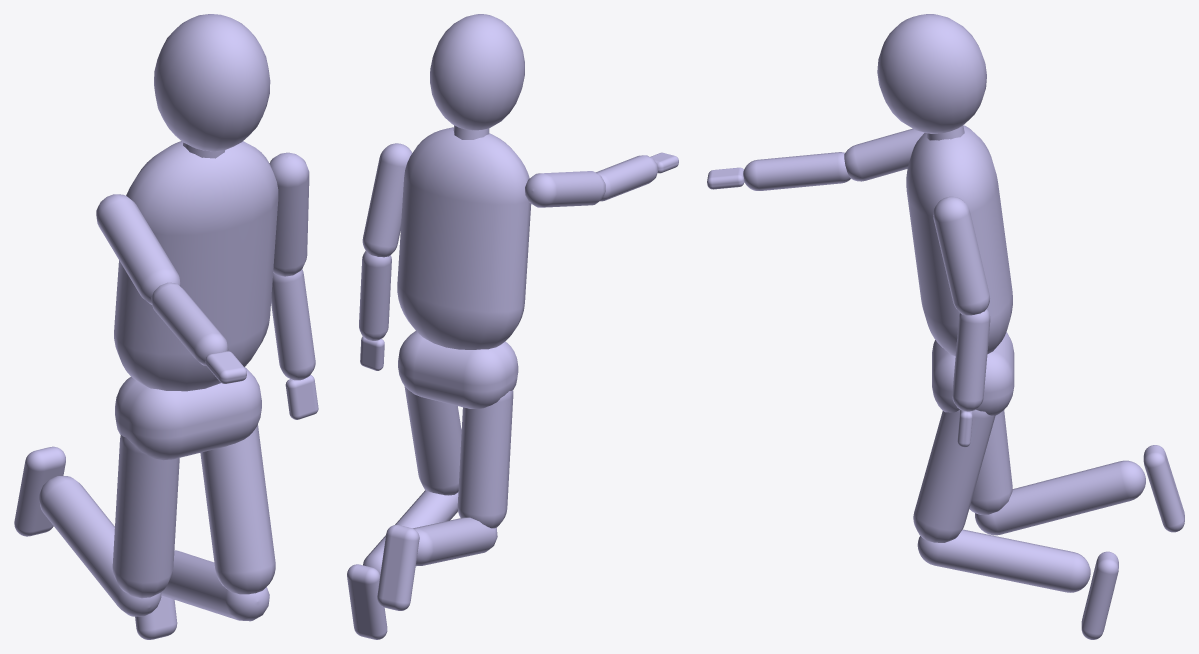
The model's file is mannequin-childKneel.glb.
3 views of the same model, side by side, from view 1: azimuth 30°, elevation 25°; view 2: azimuth 150°, elevation 25°; view 3: azimuth 270°, elevation 25° (orthographic). The views are drawn at different scales.
Visible parts, largest first — view 1: chest, headMesh, pelvis, thighL, thighR, shinR, upperArmR, upperArmL, shinL, foreArmL, foreArmR, footR (+3 smaller); view 2: chest, headMesh, pelvis, thighR, thighL, upperArmL, shinR, footR, upperArmR, foreArmL, footL, shinL (+2 smaller); view 3: chest, headMesh, thighL, shinL, shinR, upperArmL, pelvis, foreArmR, foreArmL, thighR, upperArmR, footR (+2 smaller).
Part boxes in pixels (bbox=[...]): chest: bbox=[114, 141, 278, 391]; headMesh: bbox=[154, 14, 270, 151]; pelvis: bbox=[115, 367, 261, 460]; thighL: bbox=[200, 424, 275, 594]; thighR: bbox=[112, 434, 179, 598]; shinR: bbox=[39, 476, 161, 616]; upperArmR: bbox=[96, 194, 180, 304]; upperArmL: bbox=[269, 152, 309, 276]; shinL: bbox=[161, 550, 269, 621]; foreArmL: bbox=[271, 269, 315, 380]; foreArmR: bbox=[151, 282, 228, 365]; footR: bbox=[14, 446, 65, 536]; chest: bbox=[397, 127, 531, 349]; headMesh: bbox=[430, 14, 524, 130]; pelvis: bbox=[398, 331, 518, 408]; thighR: bbox=[457, 390, 513, 528]; thighL: bbox=[404, 386, 461, 495]; upperArmL: bbox=[362, 143, 412, 257]; shinR: bbox=[413, 517, 497, 566]; footR: bbox=[377, 525, 419, 610]; upperArmR: bbox=[525, 171, 605, 207]; foreArmL: bbox=[359, 251, 391, 340]; footL: bbox=[347, 564, 387, 639]; shinL: bbox=[363, 490, 458, 575]; chest: bbox=[906, 125, 1012, 355]; headMesh: bbox=[877, 14, 986, 133]; thighL: bbox=[913, 409, 995, 542]; shinL: bbox=[917, 529, 1090, 592]; shinR: bbox=[975, 460, 1145, 535]; upperArmL: bbox=[933, 196, 989, 315]; pelvis: bbox=[932, 332, 1014, 415]; foreArmR: bbox=[743, 152, 850, 190]; foreArmL: bbox=[952, 309, 990, 411]; thighR: bbox=[969, 410, 1012, 514]; upperArmR: bbox=[844, 128, 924, 181]; footR: bbox=[1143, 445, 1184, 532].
Bounding box in the file's own units: 0.4315 × 1.18 × 0.8512.
